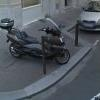Motorcycle: (1, 13, 75, 72)
